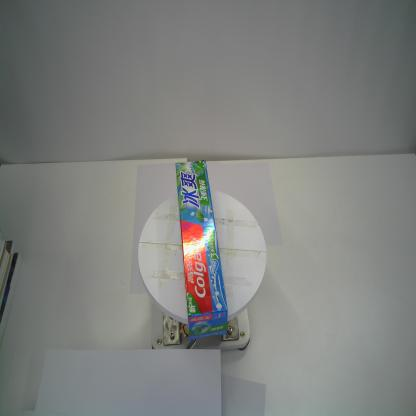Personal Hygiene: (174, 160, 229, 341)
